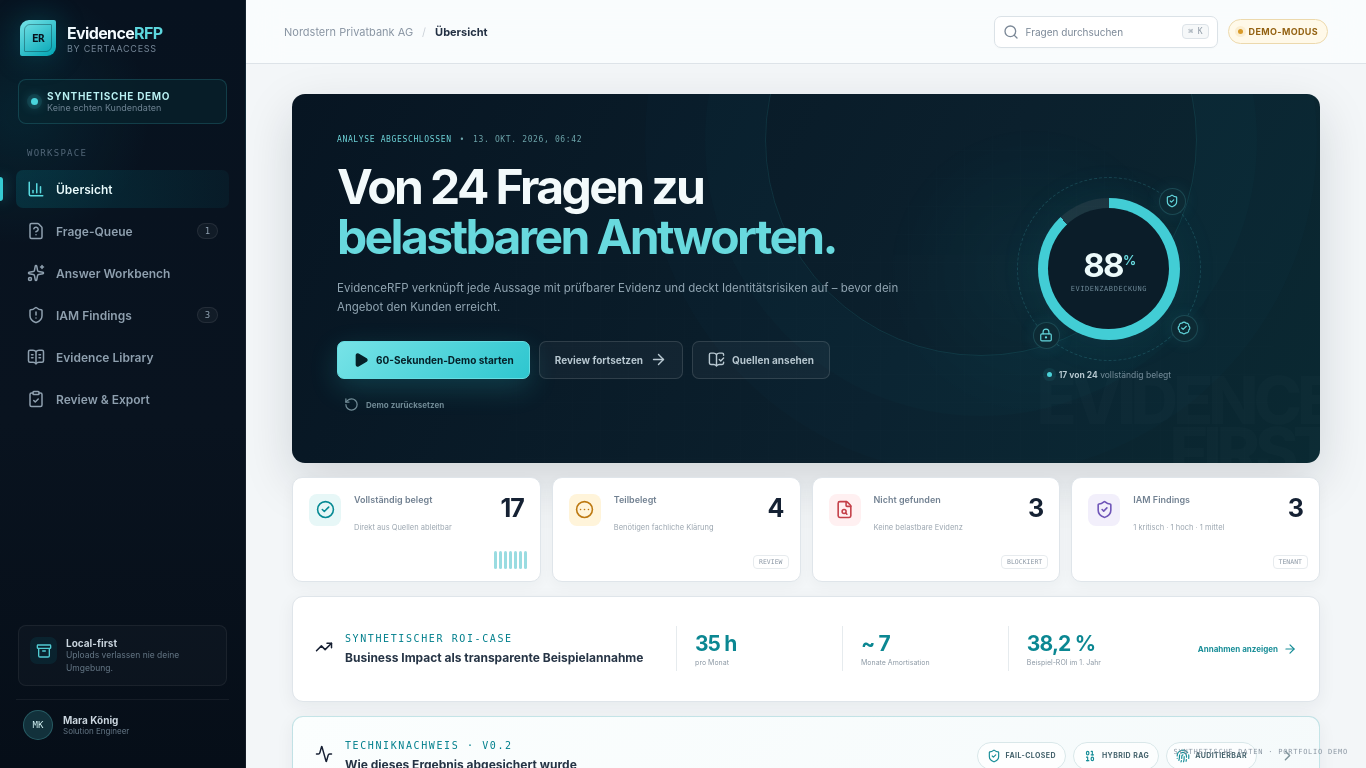
EvidenceRFP portfolio demo › verhindert die Freigabe bei einem Quellenkonflikt
Expected: the heading "Von 24 Fragen zu" is shown, [337, 157, 836, 266]
Click the button "Frage-Queue 1" at (122, 231), box [16, 212, 229, 250]
(page scrolled)
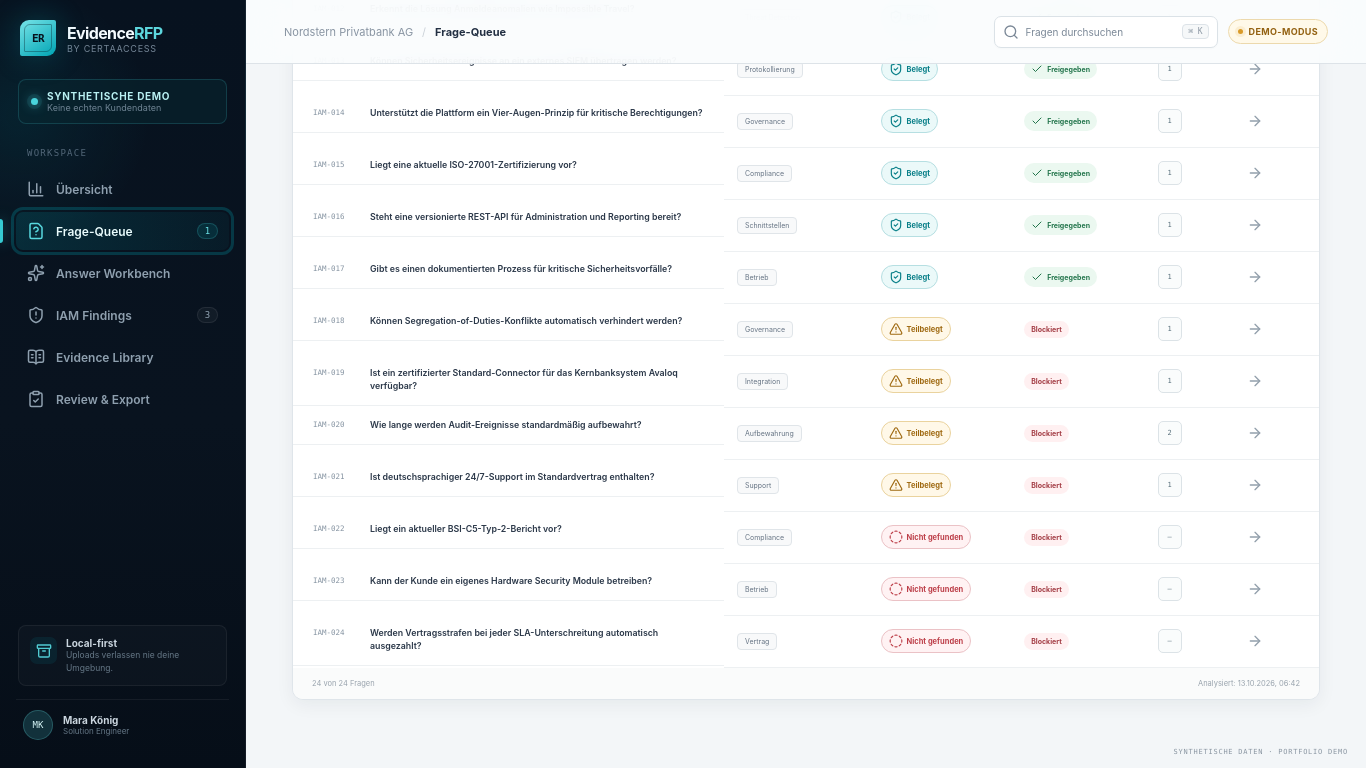
Click the text "IAM-020" at (329, 425), box [313, 420, 345, 429]
(page scrolled)
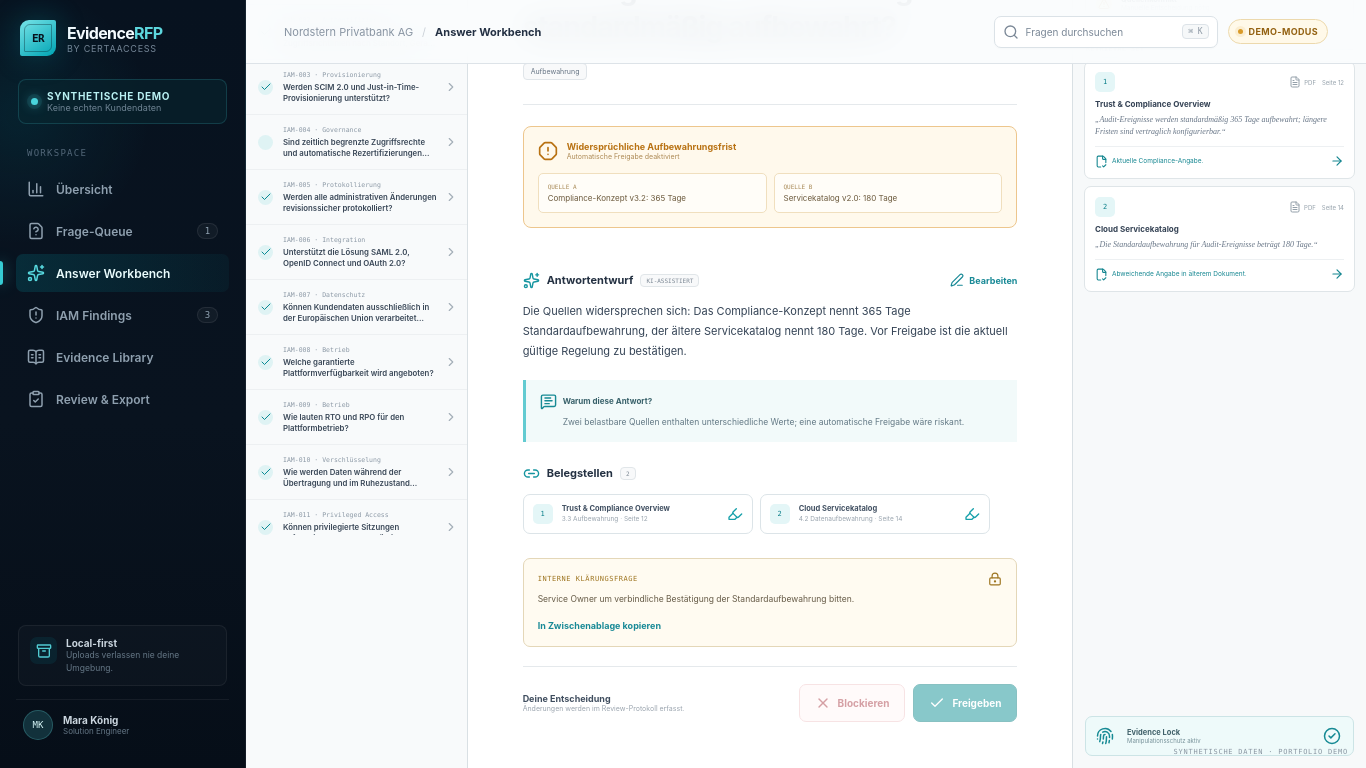
Expected: the text "Widersprüchliche Aufbewahrungsfrist" is shown, [567, 141, 736, 152]
Expected: the button "Freigeben" is disabled, [913, 684, 1017, 722]
Expected: the button "Blockieren" is disabled, [799, 684, 905, 722]
